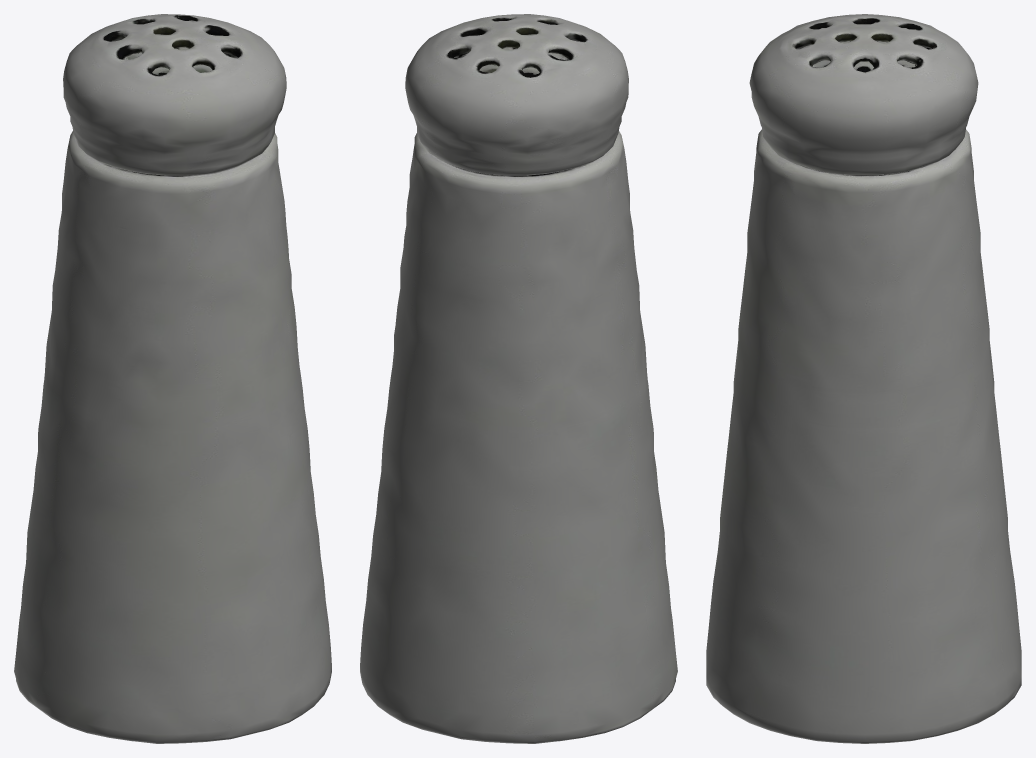
The model's file is salt.glb.
3 renders of one model, left to right at view 1: azimuth 30°, elevation 25°; view 2: azimuth 150°, elevation 25°; view 3: azimuth 270°, elevation 25°, orthographic.
Visible parts, largest first — view 1: tripo_node_3edc9323-e9df-4622-a2c1-601f7ef455e2; view 2: tripo_node_3edc9323-e9df-4622-a2c1-601f7ef455e2; view 3: tripo_node_3edc9323-e9df-4622-a2c1-601f7ef455e2.
Boxes of the visible parts, x1,y1,x2,y2 form: tripo_node_3edc9323-e9df-4622-a2c1-601f7ef455e2: (14, 14, 331, 743); tripo_node_3edc9323-e9df-4622-a2c1-601f7ef455e2: (360, 14, 677, 743); tripo_node_3edc9323-e9df-4622-a2c1-601f7ef455e2: (706, 14, 1021, 743).
Size of the model in its own units: 0.04 by 0.09 by 0.04.
Materials: 1 (1 with a texture image).
